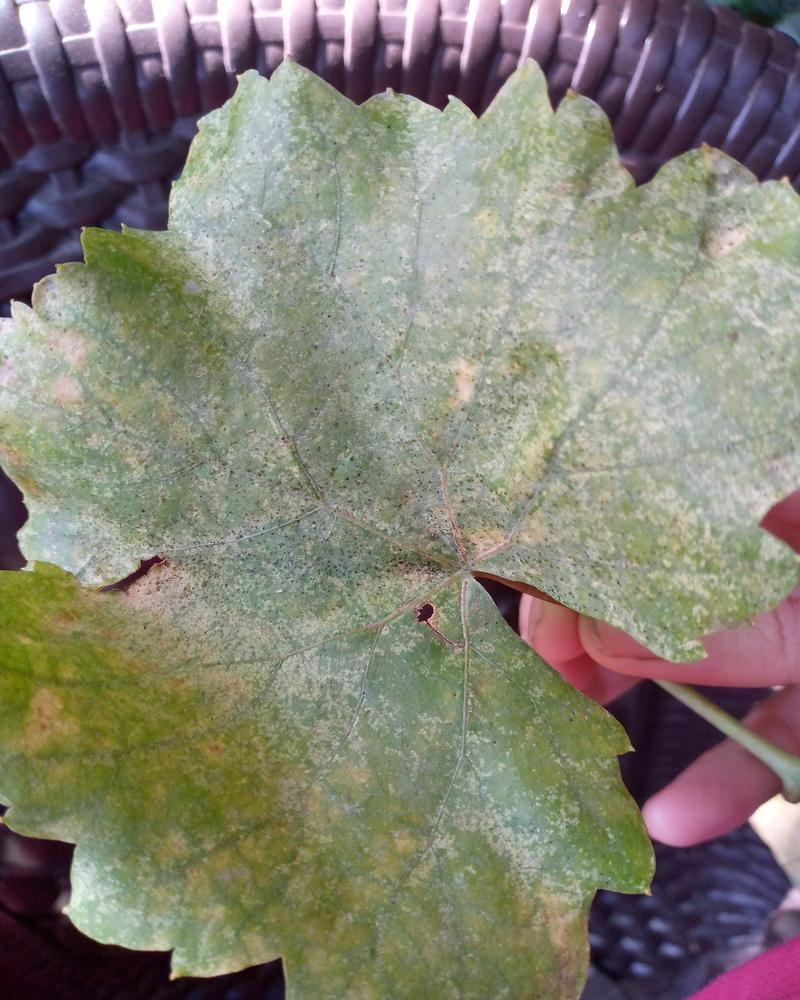Powdery-Mildew: (432, 332, 635, 561), (28, 311, 166, 436), (64, 563, 218, 673), (656, 159, 774, 281), (0, 667, 102, 791), (517, 874, 580, 937), (552, 406, 561, 416)
